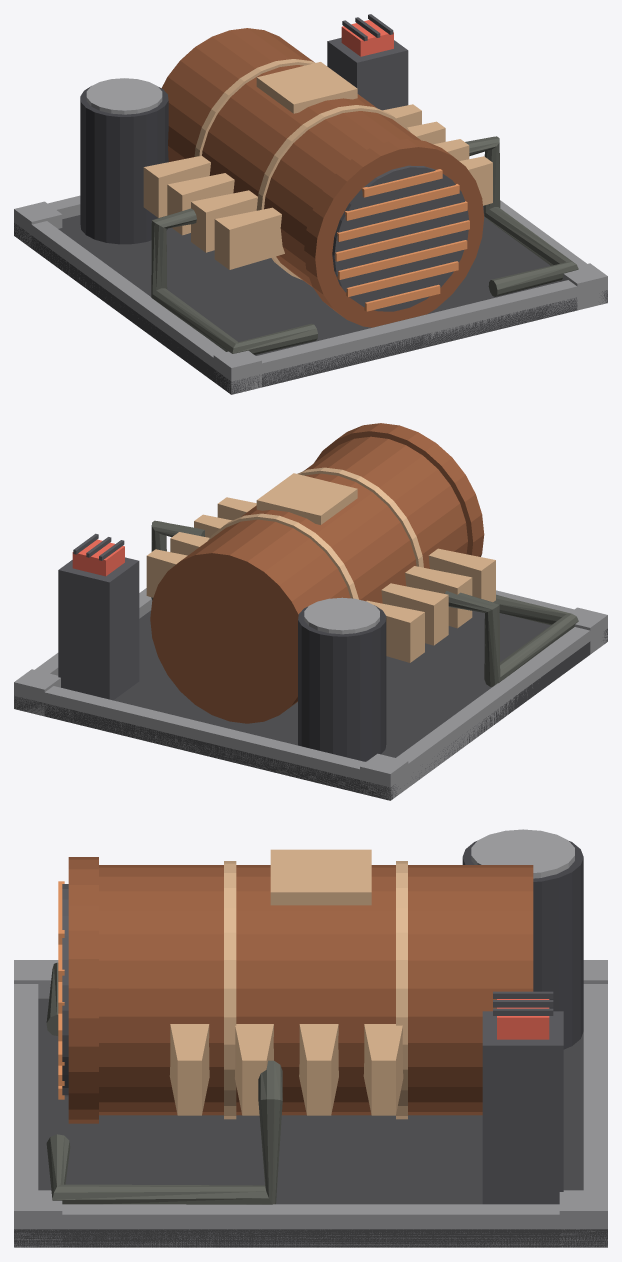
Rendered from vge_emergency_generator_off.obj.
3 renders of one model, top to bottom at view 1: azimuth 30°, elevation 25°; view 2: azimuth 150°, elevation 25°; view 3: azimuth 270°, elevation 25°, orthographic. The views are drawn at different scales.
Visible parts, largest first — view 1: vge_emergency_generator_off_0, vge_emergency_generator_off_9, vge_emergency_generator_off_12, vge_emergency_generator_off_1, vge_emergency_generator_off_32, vge_emergency_generator_off_13, vge_emergency_generator_off_3, vge_emergency_generator_off_26, vge_emergency_generator_off_31, vge_emergency_generator_off_34, vge_emergency_generator_off_22, vge_emergency_generator_off_21 (+22 smaller); view 2: vge_emergency_generator_off_9, vge_emergency_generator_off_0, vge_emergency_generator_off_32, vge_emergency_generator_off_34, vge_emergency_generator_off_2, vge_emergency_generator_off_3, vge_emergency_generator_off_26, vge_emergency_generator_off_12, vge_emergency_generator_off_21, vge_emergency_generator_off_33, vge_emergency_generator_off_24, vge_emergency_generator_off_25 (+13 smaller); view 3: vge_emergency_generator_off_9, vge_emergency_generator_off_0, vge_emergency_generator_off_4, vge_emergency_generator_off_34, vge_emergency_generator_off_12, vge_emergency_generator_off_31, vge_emergency_generator_off_32, vge_emergency_generator_off_21, vge_emergency_generator_off_2, vge_emergency_generator_off_1, vge_emergency_generator_off_33, vge_emergency_generator_off_29 (+12 smaller).
Part boxes in pixels (x1,y1,x2,y2): vge_emergency_generator_off_0: (14, 214, 607, 394); vge_emergency_generator_off_9: (162, 28, 420, 287); vge_emergency_generator_off_12: (304, 139, 484, 327); vge_emergency_generator_off_1: (223, 279, 607, 394); vge_emergency_generator_off_32: (80, 86, 168, 244); vge_emergency_generator_off_13: (332, 165, 468, 311); vge_emergency_generator_off_3: (23, 219, 225, 379); vge_emergency_generator_off_26: (151, 208, 317, 354); vge_emergency_generator_off_31: (465, 136, 578, 296); vge_emergency_generator_off_34: (327, 37, 408, 110); vge_emergency_generator_off_22: (214, 207, 284, 269); vge_emergency_generator_off_21: (256, 62, 357, 113); vge_emergency_generator_off_9: (150, 436, 467, 723); vge_emergency_generator_off_0: (14, 610, 607, 800); vge_emergency_generator_off_32: (298, 605, 386, 761); vge_emergency_generator_off_34: (58, 557, 139, 700); vge_emergency_generator_off_2: (14, 685, 399, 800); vge_emergency_generator_off_3: (396, 627, 590, 793); vge_emergency_generator_off_26: (445, 591, 578, 686); vge_emergency_generator_off_12: (313, 423, 484, 556); vge_emergency_generator_off_21: (256, 473, 357, 524); vge_emergency_generator_off_33: (304, 597, 379, 634); vge_emergency_generator_off_24: (381, 583, 448, 645); vge_emergency_generator_off_25: (366, 600, 424, 662); vge_emergency_generator_off_9: (99, 865, 533, 1115); vge_emergency_generator_off_0: (14, 998, 607, 1247); vge_emergency_generator_off_4: (38, 1204, 583, 1247); vge_emergency_generator_off_34: (482, 1011, 563, 1204); vge_emergency_generator_off_12: (68, 857, 98, 1123); vge_emergency_generator_off_31: (46, 1060, 282, 1204); vge_emergency_generator_off_32: (462, 841, 583, 1049); vge_emergency_generator_off_21: (270, 849, 371, 905); vge_emergency_generator_off_2: (583, 984, 607, 1247); vge_emergency_generator_off_1: (14, 984, 38, 1247); vge_emergency_generator_off_33: (471, 829, 574, 878); vge_emergency_generator_off_29: (299, 1024, 338, 1115).
Bounding box in the file's own units: 2.94 × 1.38 × 2.94.
